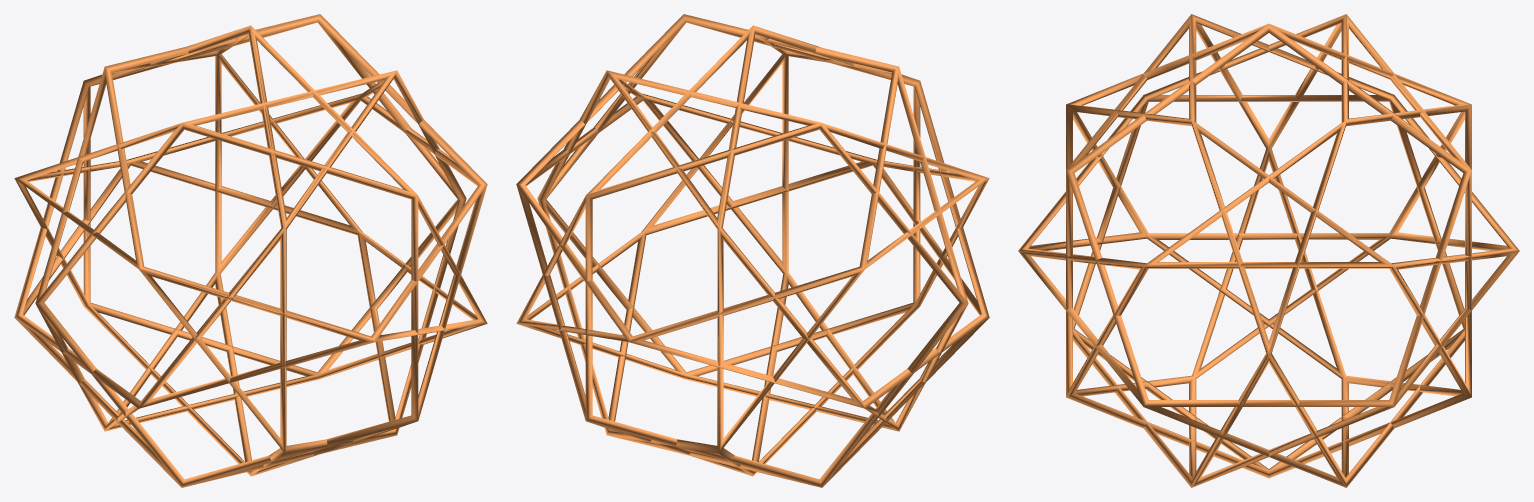
Rendered from Dodecadodecahedron2.glb.
The picture shows the model from 3 angles, left to right: view 1: azimuth 30°, elevation 25°; view 2: azimuth 150°, elevation 25°; view 3: azimuth 270°, elevation 25°; orthographic projection.
Visible parts, largest first — view 1: Dodecadodecahedron; view 2: Dodecadodecahedron; view 3: Dodecadodecahedron.
Boxes of the visible parts, left/top/right/bottom form: Dodecadodecahedron: left=14, top=14, right=487, bottom=487; Dodecadodecahedron: left=516, top=14, right=989, bottom=487; Dodecadodecahedron: left=1018, top=14, right=1519, bottom=487.
Bounding box in the file's own units: 2.04 × 2.04 × 2.04.
